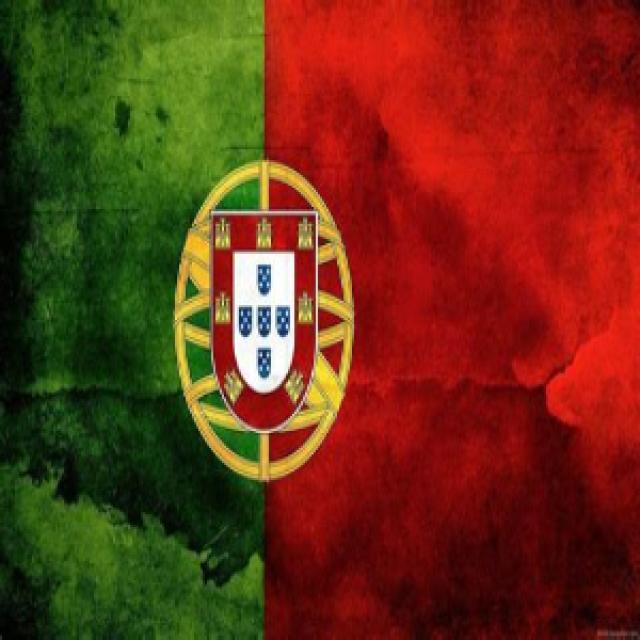portugal: (13, 4, 640, 638)
